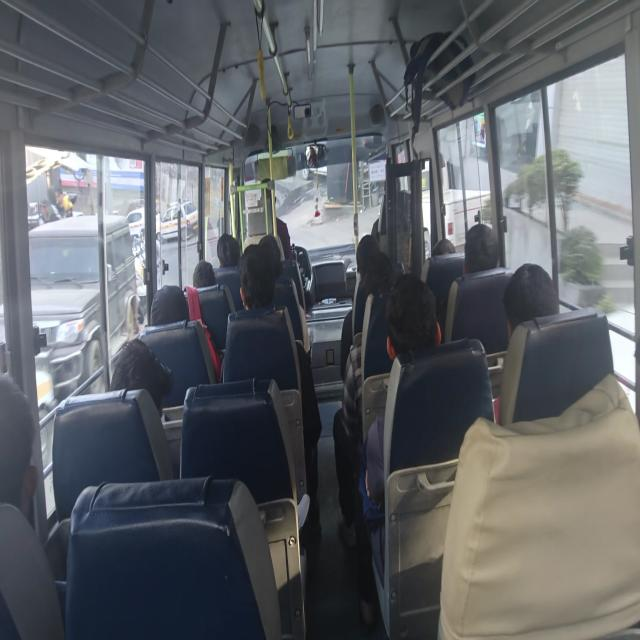person: (0, 360, 75, 566), (94, 365, 182, 425), (507, 257, 562, 343), (136, 280, 197, 344), (237, 243, 281, 329), (400, 296, 448, 361), (366, 254, 428, 299), (188, 257, 232, 298), (469, 218, 496, 275), (348, 231, 378, 270), (439, 212, 461, 249), (208, 238, 233, 269), (256, 227, 276, 254)
